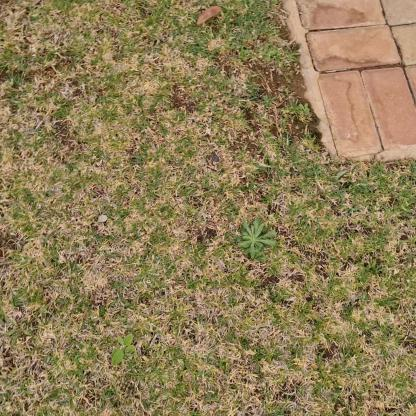Weeds: (234, 219, 277, 259), (113, 333, 136, 370), (299, 104, 312, 118)
